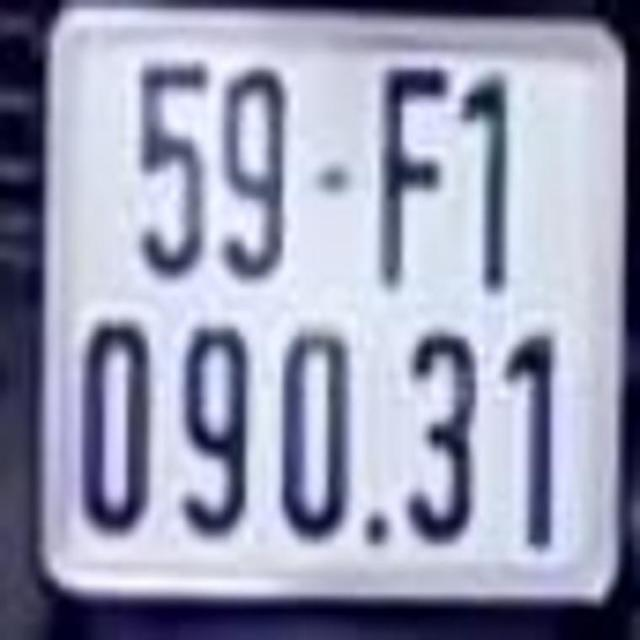0: (80, 318, 152, 533), (279, 327, 350, 538)
1: (503, 328, 562, 549), (461, 68, 516, 292)
3: (405, 325, 478, 544)
5: (134, 58, 208, 277)
9: (219, 62, 288, 281), (180, 322, 248, 535)
F: (377, 61, 452, 288)
